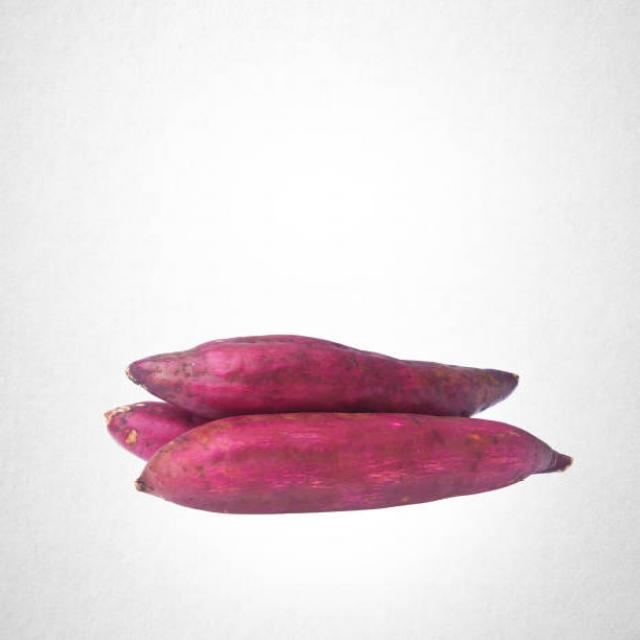Sweet Potato: (127, 409, 574, 513), (121, 330, 534, 416)
